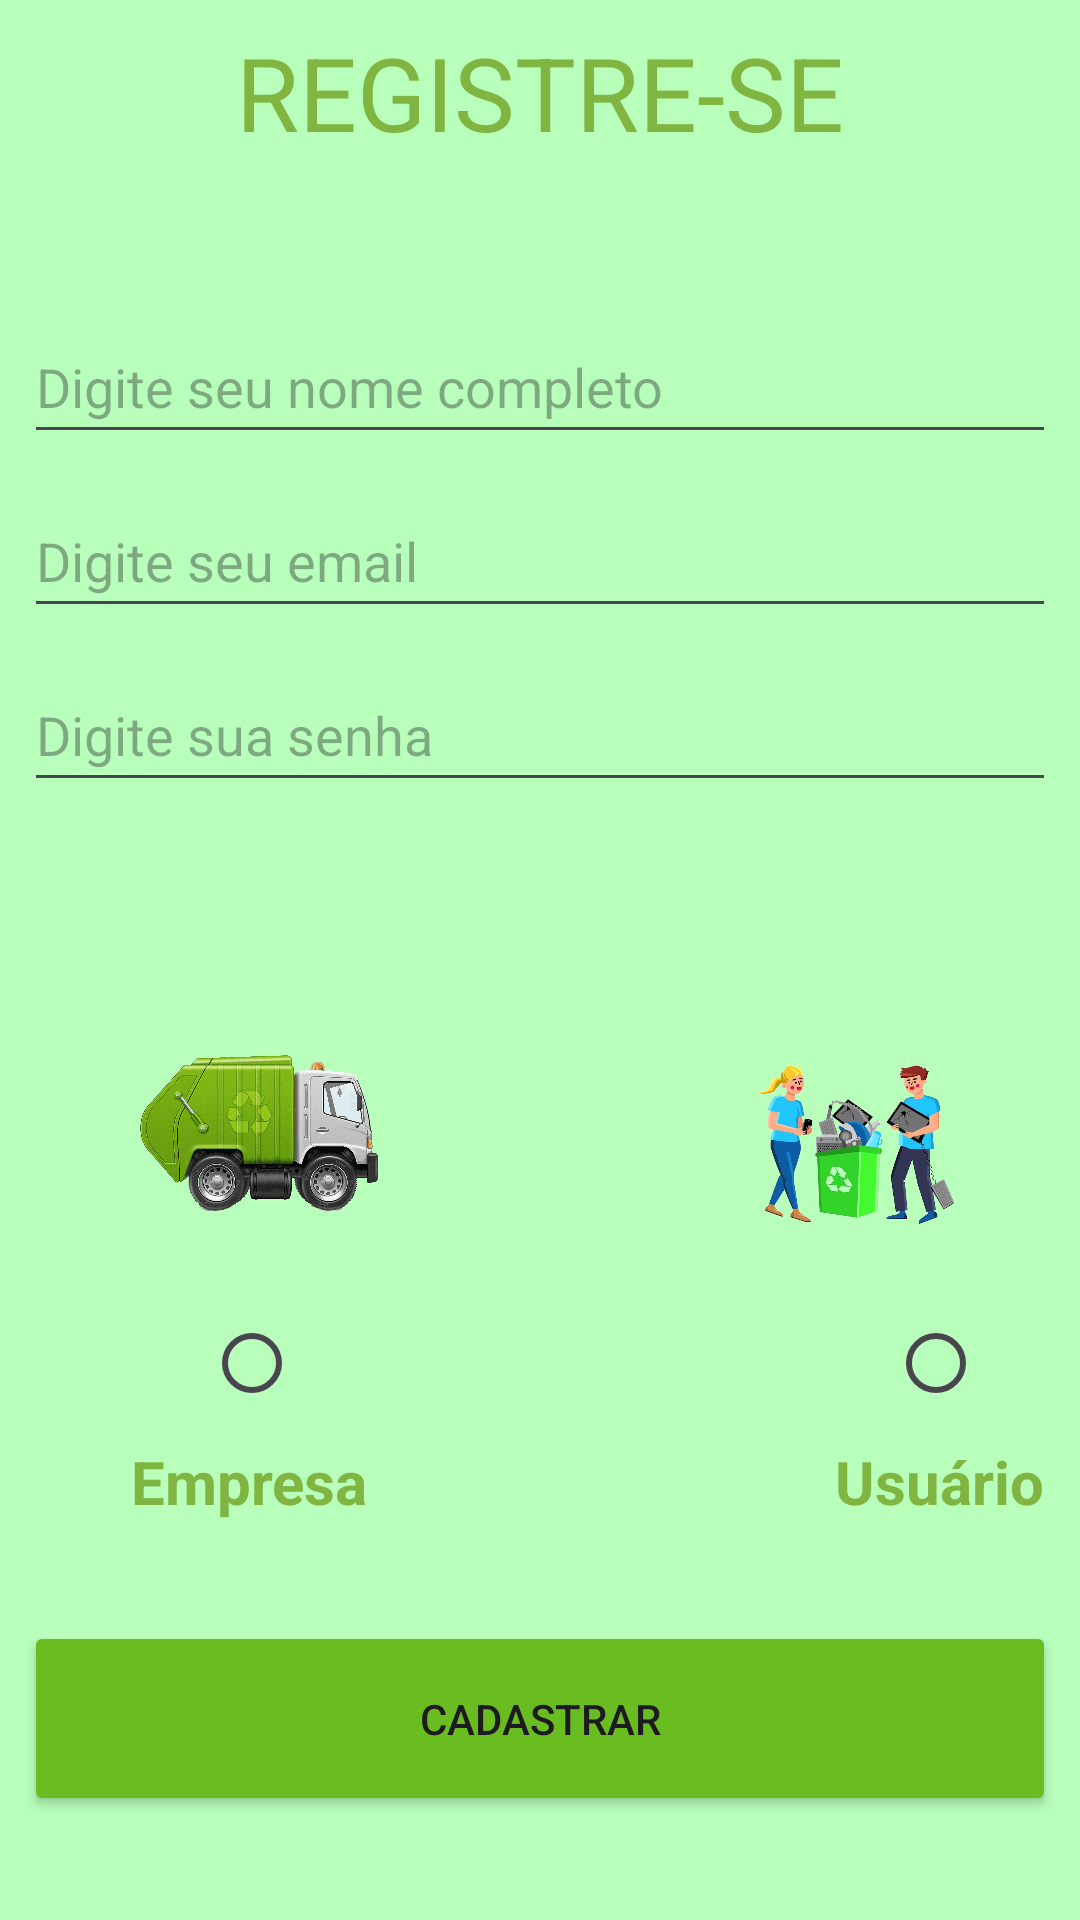

Icons on this 1080 x 1920 Android screen, each with its box as (x1, y1, x2, y2):
pessoasreciclando: (758, 1065, 954, 1224)
trashtruck: (140, 1055, 378, 1212)
